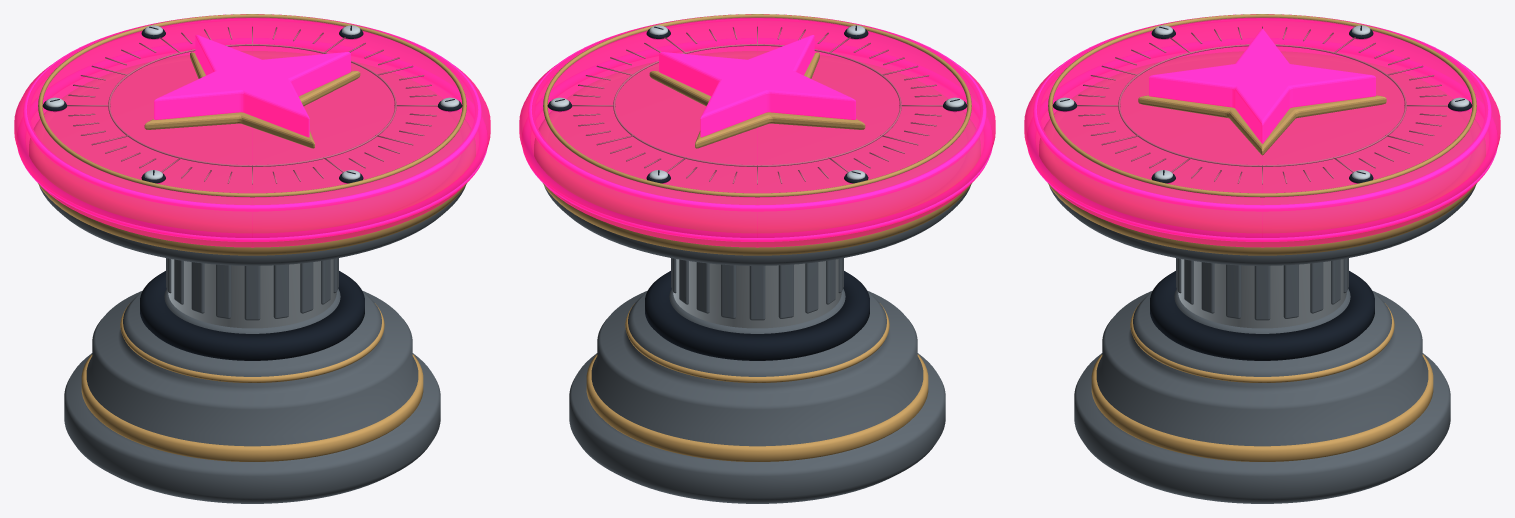
The model's file is bumper.glb.
3 views of the same model, side by side, from view 1: azimuth 30°, elevation 25°; view 2: azimuth 150°, elevation 25°; view 3: azimuth 270°, elevation 25° (orthographic).
Parts seen in each view (by area): view 1: Broad flat optical cap, Continuous turned chromium base, Brass cap retaining rim, Raised pink four point insignia, Lower pink perimeter light, Inset undercut black seal, Brass lower retention skirt, Top pink perimeter light, Slotted actuator core, Fine brass lens rim, Cap underside metal reflector, Brass four point insignia surround (+7 smaller); view 2: Broad flat optical cap, Continuous turned chromium base, Brass cap retaining rim, Raised pink four point insignia, Lower pink perimeter light, Inset undercut black seal, Brass lower retention skirt, Top pink perimeter light, Slotted actuator core, Fine brass lens rim, Cap underside metal reflector, Brass four point insignia surround (+7 smaller); view 3: Broad flat optical cap, Continuous turned chromium base, Brass cap retaining rim, Raised pink four point insignia, Lower pink perimeter light, Inset undercut black seal, Brass lower retention skirt, Top pink perimeter light, Slotted actuator core, Fine brass lens rim, Cap underside metal reflector, Brass four point insignia surround (+7 smaller).
Boxes of the visible parts, <box> form: Broad flat optical cap: <box>14,14,490,247</box>; Continuous turned chromium base: <box>64,288,440,503</box>; Brass cap retaining rim: <box>29,51,475,255</box>; Raised pink four point insignia: <box>154,35,350,137</box>; Lower pink perimeter light: <box>17,38,487,241</box>; Inset undercut black seal: <box>140,271,364,360</box>; Brass lower retention skirt: <box>81,354,423,461</box>; Top pink perimeter light: <box>23,18,481,211</box>; Slotted actuator core: <box>168,259,336,328</box>; Fine brass lens rim: <box>38,14,466,197</box>; Cap underside metal reflector: <box>39,186,465,265</box>; Brass four point insignia surround: <box>144,52,360,148</box>; Broad flat optical cap: <box>519,14,995,247</box>; Continuous turned chromium base: <box>569,288,945,503</box>; Brass cap retaining rim: <box>534,51,980,255</box>; Raised pink four point insignia: <box>659,35,855,137</box>; Lower pink perimeter light: <box>522,38,992,241</box>; Inset undercut black seal: <box>645,271,869,360</box>; Brass lower retention skirt: <box>586,354,928,461</box>; Top pink perimeter light: <box>528,18,986,211</box>; Slotted actuator core: <box>673,259,841,328</box>; Fine brass lens rim: <box>543,14,971,197</box>; Cap underside metal reflector: <box>544,186,970,265</box>; Brass four point insignia surround: <box>649,52,865,148</box>; Broad flat optical cap: <box>1024,14,1500,247</box>; Continuous turned chromium base: <box>1074,288,1450,503</box>; Brass cap retaining rim: <box>1039,51,1485,255</box>; Raised pink four point insignia: <box>1149,28,1375,143</box>; Lower pink perimeter light: <box>1027,38,1497,241</box>; Inset undercut black seal: <box>1150,271,1374,360</box>; Brass lower retention skirt: <box>1091,354,1433,461</box>; Top pink perimeter light: <box>1033,18,1491,211</box>; Slotted actuator core: <box>1178,259,1346,328</box>; Fine brass lens rim: <box>1048,14,1476,197</box>; Cap underside metal reflector: <box>1049,186,1475,265</box>; Brass four point insignia surround: <box>1138,95,1386,155</box>.
Bounding box in the file's own units: 1.24 × 1.02 × 1.24.
